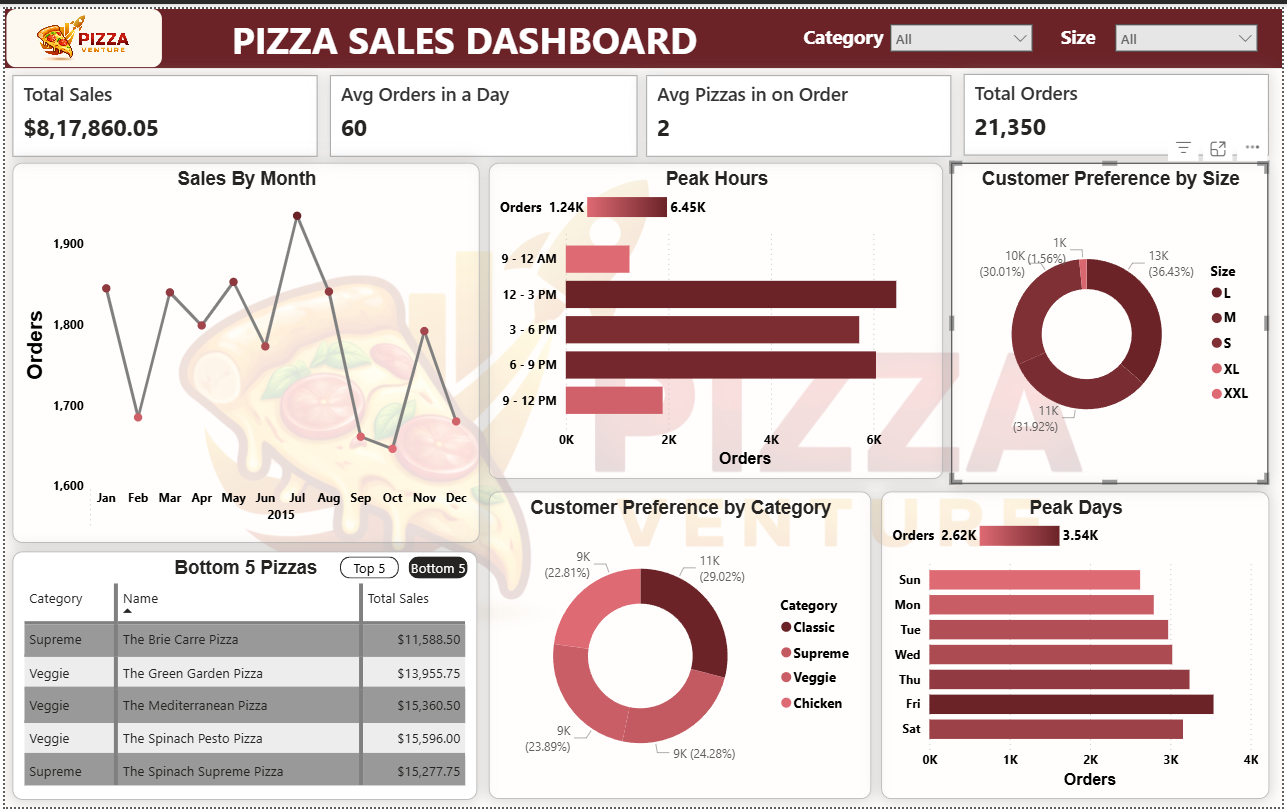

The page's visual inventory and layout, read from the dashboard file:
{"tool":"powerbi","page":{"name":"Page 1","canvas":[1280,800],"ordinal":0},"visuals":[{"type":"textbox","box":[0,0,1279.9,59.4],"z":0},{"type":"slicer","fields":{"Values":["Pizza Types.Category"]},"box":[876.3,5.5,163.1,44.2],"z":0,"group":"g1"},{"type":"slicer","fields":{"Values":["pizzas.Size"]},"box":[1102.9,5.5,163.1,44.2],"z":0,"group":"g2"},{"type":"shape","box":[1041,8.9,69.1,37.3],"z":1000,"group":"g2"},{"type":"shape","box":[796.1,11,87.1,34.6],"z":1000,"group":"g1"},{"type":"multiRowCard","title":"Total Sales","fields":{"Values":["All Measures.Total Sales"]},"box":[6.9,66.7,305.6,81.9],"z":1000},{"type":"barChart","title":"Peak Hours","fields":{"Category":["orders.Time Slot"],"Y":["All Measures.Orders"]},"box":[484.7,154.2,455.6,316.7],"z":2000},{"type":"multiRowCard","title":"Avg Orders in a Day","fields":{"Values":["All Measures.Avg Orders in a day"]},"box":[325,66.7,308.3,81.9],"z":3000},{"type":"barChart","title":"Peak Days","fields":{"Y":["All Measures.Orders"],"Category":["Date Table.Day"]},"box":[877.8,483.3,388.9,308.3],"z":4000},{"type":"multiRowCard","title":"Avg Pizzas in on Order","fields":{"Values":["All Measures.Avg Pizzas in on Order"]},"box":[643.1,66.7,305.6,81.9],"z":5000},{"type":"donutChart","title":"Customer Preference by Category","fields":{"Category":["Pizza Types.Category"],"Y":["All Measures.Orders"]},"box":[484.7,483.3,383.3,308.3],"z":6000},{"type":"lineChart","title":"Sales By Month","fields":{"Category":["Date Table.Year","Date Table.Month"],"Y":["All Measures.Orders"]},"box":[6.9,154.2,468.1,380.6],"z":7000},{"type":"multiRowCard","title":"Total Orders","fields":{"Values":["All Measures.Orders"]},"box":[961.1,65.3,305.6,81.9],"z":8000},{"type":"donutChart","title":"Customer Preference by  Size","fields":{"Y":["All Measures.Orders"],"Category":["pizzas.Size"]},"box":[948.6,154.2,318.1,322.2],"z":9000},{"type":"tableEx","title":"Bottom 5 Pizzas","fields":{"Values":["Pizza Types.Category","Pizza Types.Name","All Measures.Total Sales"]},"box":[6.9,543.2,465.8,248.8],"z":11000},{"type":"bookmarkNavigator","box":[335.9,548.7,128.5,22.1],"z":12000},{"type":"group","id":"g1","title":"Group 1","box":[796.1,5.5,243.3,44.2],"z":13000},{"type":"group","id":"g2","title":"Group 1","box":[1041,5.5,225,44.2],"z":14000},{"type":"image","box":[1.4,0,155.7,58.6],"z":15000}]}

Visuals, with their boxes in screenshot pixels (x1, y1, x2, y2), scaled from the page's 1280x800 canvas onto the 1287x812 screenshot:
textbox: Rect(0, 0, 1286, 60)
slicer - Pizza Types.Category: Rect(881, 6, 1045, 50)
slicer - pizzas.Size: Rect(1109, 6, 1273, 50)
shape: Rect(1047, 9, 1116, 47)
shape: Rect(800, 11, 888, 46)
"Total Sales" multiRowCard: Rect(7, 68, 314, 151)
"Peak Hours" barChart: Rect(487, 157, 945, 478)
"Avg Orders in a Day" multiRowCard: Rect(327, 68, 637, 151)
"Peak Days" barChart: Rect(883, 491, 1274, 803)
"Avg Pizzas in on Order" multiRowCard: Rect(647, 68, 954, 151)
"Customer Preference by Category" donutChart: Rect(487, 491, 873, 803)
"Sales By Month" lineChart: Rect(7, 157, 478, 543)
"Total Orders" multiRowCard: Rect(966, 66, 1274, 149)
"Customer Preference by  Size" donutChart: Rect(954, 157, 1274, 484)
"Bottom 5 Pizzas" tableEx: Rect(7, 551, 475, 804)
bookmarkNavigator: Rect(338, 557, 467, 579)
"Group 1" group: Rect(800, 6, 1045, 50)
"Group 1" group: Rect(1047, 6, 1273, 50)
image: Rect(1, 0, 158, 59)
